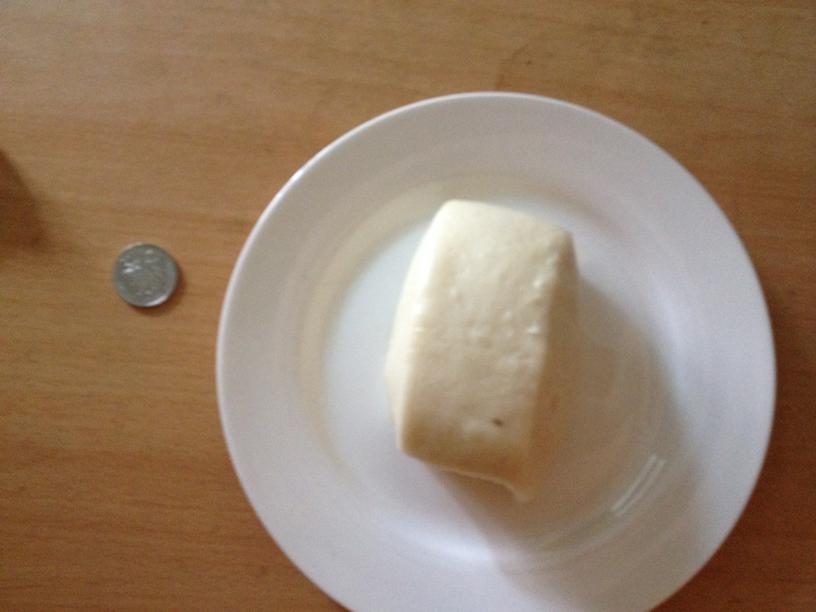bun: (383, 199, 576, 491)
coin: (109, 240, 179, 309)
